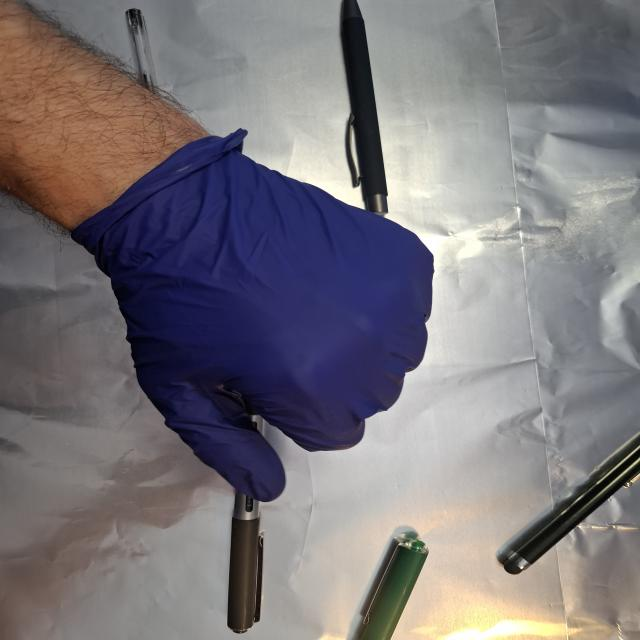glove_on: (74, 134, 439, 504)
